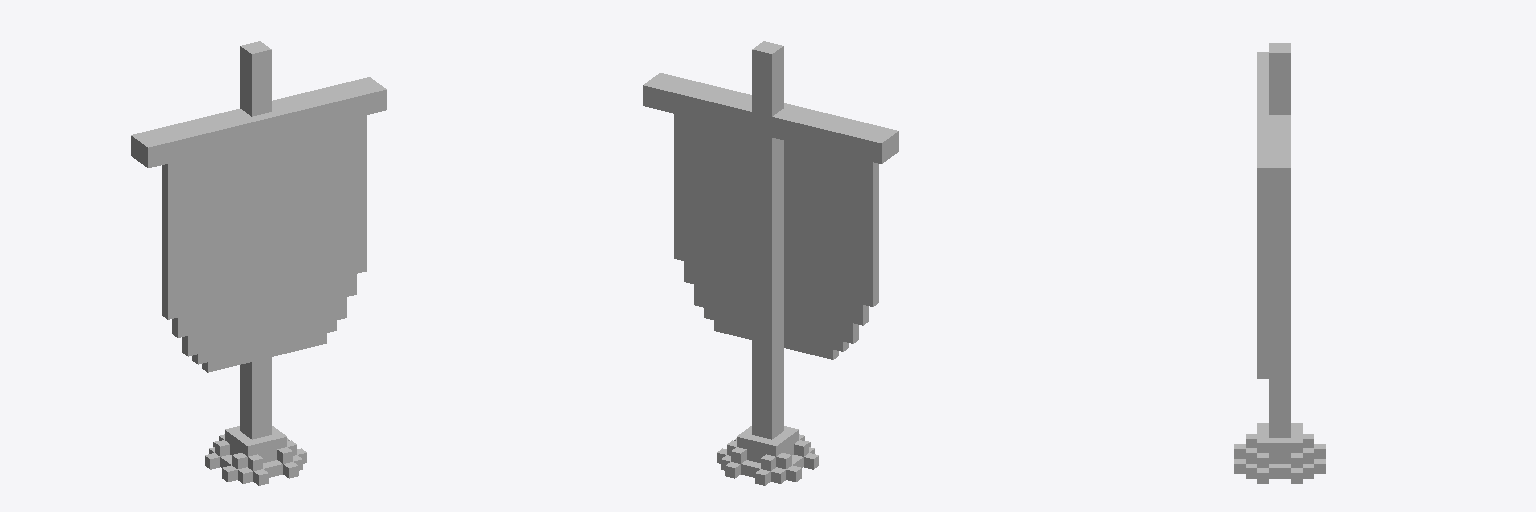
The model's file is Flag Pole Red.obj.
The picture shows the model from 3 angles: view 1: azimuth 30°, elevation 25°; view 2: azimuth 150°, elevation 25°; view 3: azimuth 270°, elevation 25°; orthographic projection.
Parts seen in each view (by area): view 1: Flag Pole Red; view 2: Flag Pole Red; view 3: Flag Pole Red.
Part boxes in pixels (x1,y1,x2,y2): Flag Pole Red: (131,41,386,485); Flag Pole Red: (643,41,898,485); Flag Pole Red: (1234,43,1325,483).
Size of the model in its own units: 24 by 40 by 8.